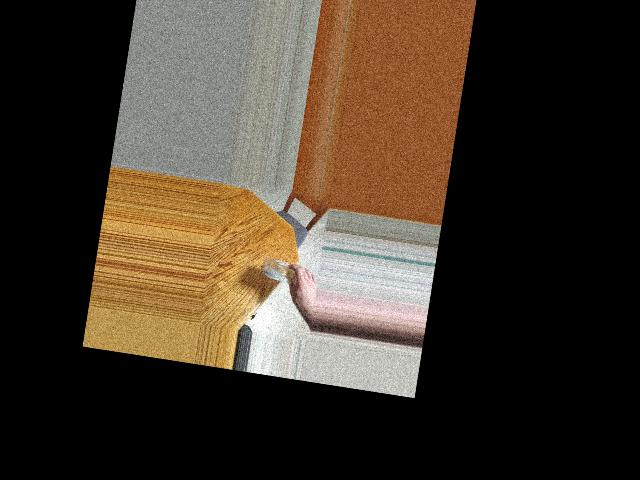cheese: (257, 248, 311, 303)
